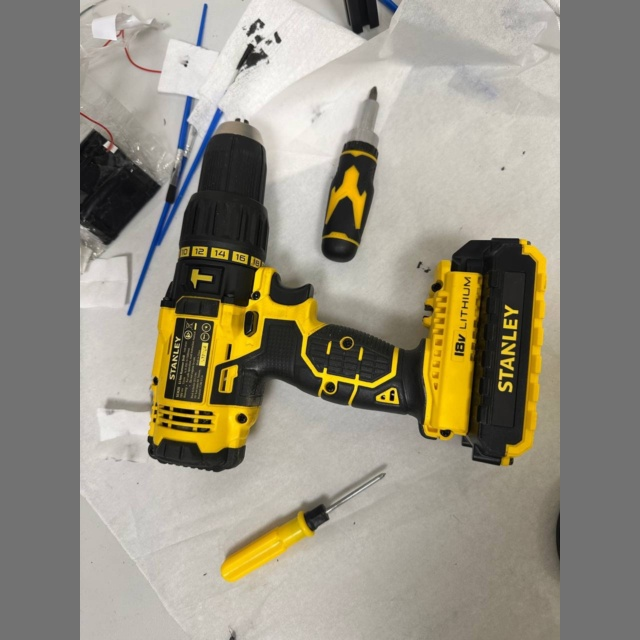drill: (148, 122, 546, 470)
screwdriver: (221, 472, 386, 582), (321, 87, 379, 262)
